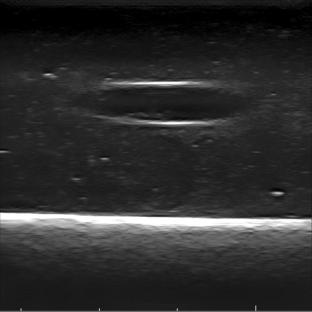vessel: (95, 81, 247, 126)
